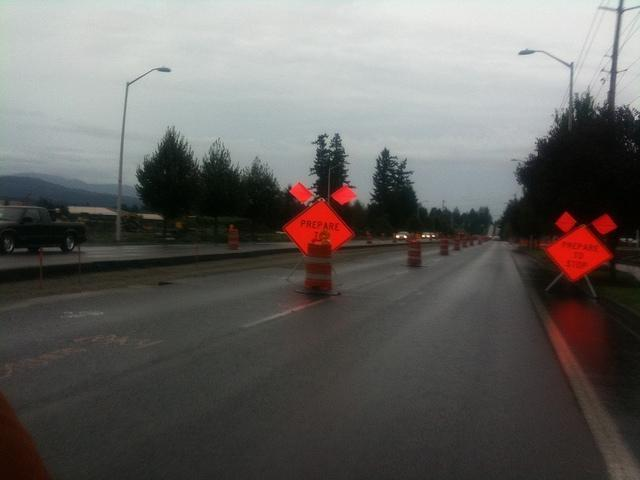car: (397, 231, 408, 240), (422, 232, 436, 238), (430, 232, 439, 238), (492, 236, 501, 241)
truck: (2, 206, 88, 256)
